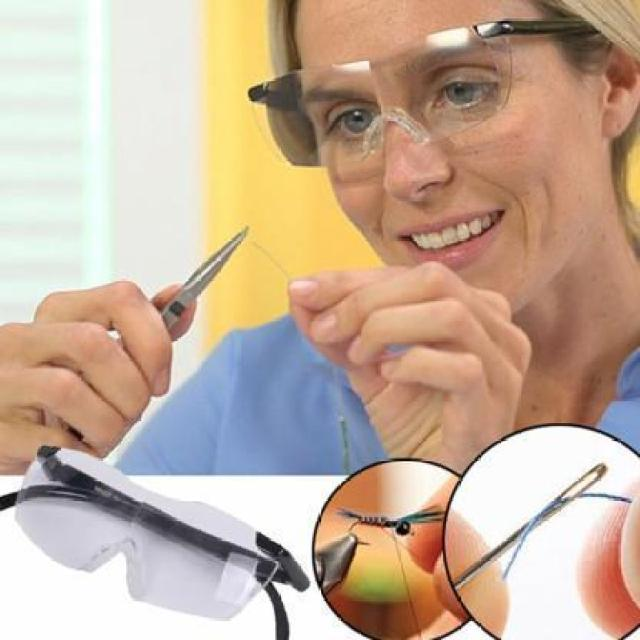face_nomask: (310, 70, 524, 267)
glasses: (244, 12, 591, 173)
hand_noglove: (274, 253, 534, 475), (0, 274, 188, 474)
